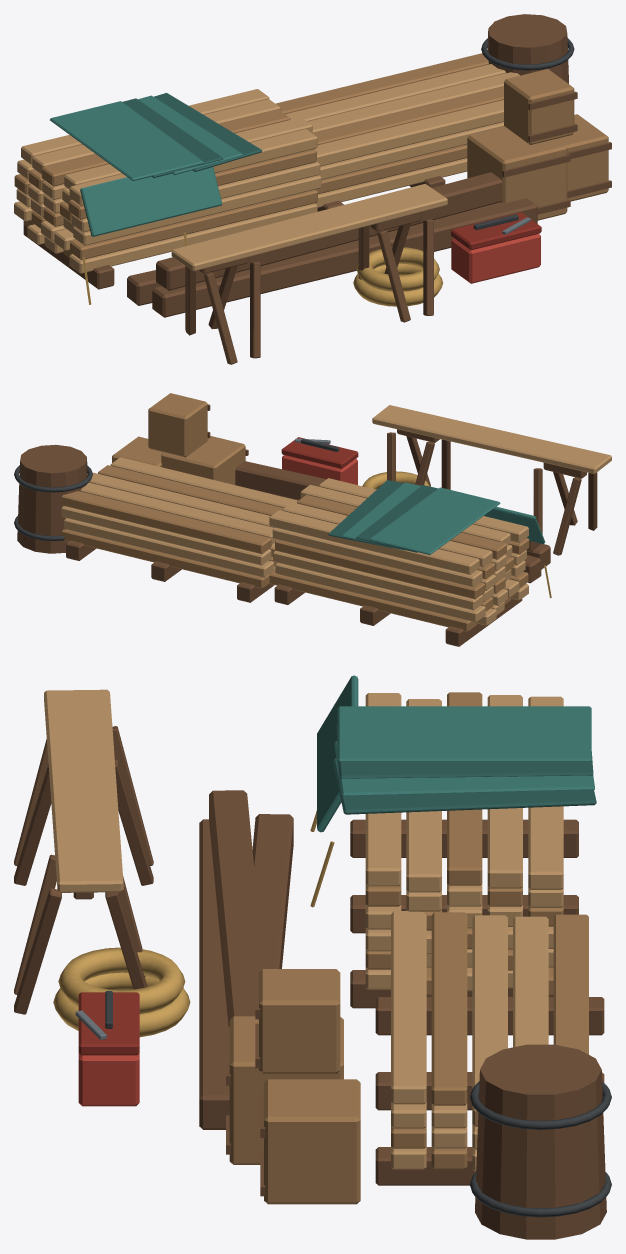
3 views of the same model, one above another, from view 1: azimuth 30°, elevation 25°; view 2: azimuth 150°, elevation 25°; view 3: azimuth 270°, elevation 25° (orthographic). The views are drawn at different scales.
Parts seen in each view (by area): view 1: square_wood_light, square_wood, square_wood_dark, square_teal, square_ochre, square_teal_dark, square_red, square_red_dark, square_iron; view 2: square_wood_light, square_wood, square_wood_dark, square_teal, square_teal_dark, square_red_dark, square_red, square_iron, square_ochre; view 3: square_wood_dark, square_wood_light, square_wood, square_teal, square_teal_dark, square_ochre, square_iron, square_red_dark, square_red.
Boxes of the visible parts, x1=… form: square_wood_light: x1=14, y1=64, x2=519, y2=273; square_wood: x1=14, y1=53, x2=608, y2=259; square_wood_dark: x1=23, y1=14, x2=611, y2=364; square_teal: x1=50, y1=95, x2=242, y2=236; square_ochre: x1=82, y1=232, x2=442, y2=306; square_teal_dark: x1=122, y1=93, x2=262, y2=177; square_red: x1=451, y1=234, x2=540, y2=283; square_red_dark: x1=451, y1=212, x2=541, y2=249; square_iron: x1=473, y1=38, x2=574, y2=230; square_wood_light: x1=61, y1=405, x2=611, y2=625; square_wood: x1=61, y1=393, x2=529, y2=631; square_wood_dark: x1=17, y1=404, x2=597, y2=646; square_teal: x1=342, y1=482, x2=544, y2=554; square_teal_dark: x1=328, y1=480, x2=438, y2=552; square_red_dark: x1=281, y1=437, x2=358, y2=468; square_red: x1=282, y1=455, x2=357, y2=484; square_iron: x1=14, y1=438, x2=338, y2=540; square_ochre: x1=362, y1=471, x2=551, y2=598; square_wood_dark: x1=14, y1=726, x2=606, y2=1239; square_wood_light: x1=44, y1=689, x2=563, y2=1171; square_wood: x1=229, y1=692, x2=588, y2=1204; square_teal: x1=317, y1=675, x2=594, y2=832; square_teal_dark: x1=332, y1=724, x2=596, y2=814; square_ochre: x1=53, y1=810, x2=334, y2=1037; square_iron: x1=105, y1=991, x2=611, y2=1217; square_red_dark: x1=78, y1=992, x2=139, y2=1055; square_red: x1=78, y1=1053, x2=139, y2=1106.
Bounding box in the file's own units: 3.84 × 0.7757 × 2.35.
